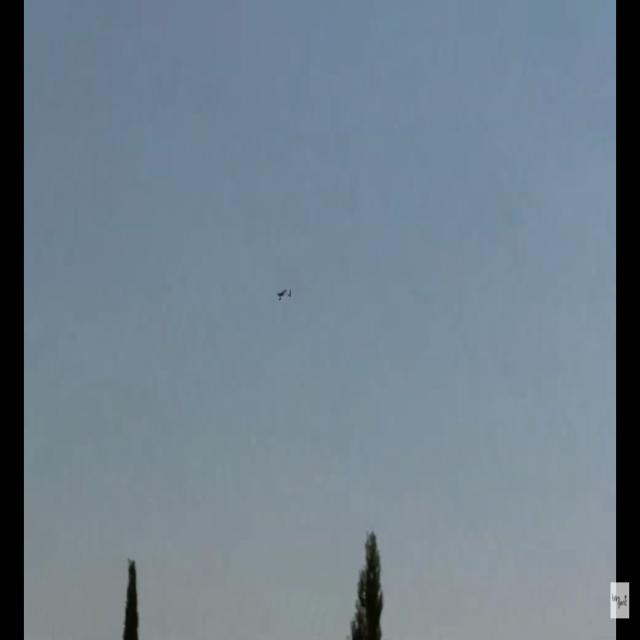iha: (276, 288, 292, 302)
